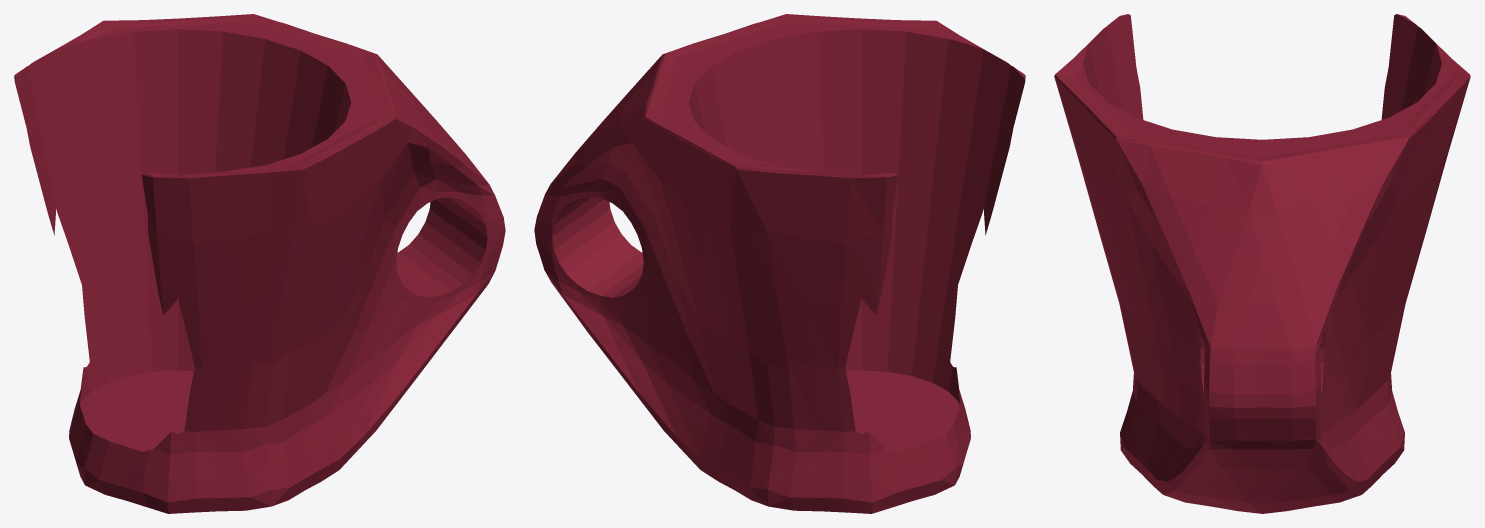
3 views of the same model, side by side, from view 1: azimuth 30°, elevation 25°; view 2: azimuth 150°, elevation 25°; view 3: azimuth 270°, elevation 25° (orthographic). The views are drawn at different scales.
Visible parts, largest first — view 1: geometry_0; view 2: geometry_0; view 3: geometry_0.
Part boxes in pixels (x1,y1,x2,y2): geometry_0: [14, 14, 505, 513]; geometry_0: [534, 14, 1025, 513]; geometry_0: [1054, 14, 1470, 513].
Bounding box in the file's own units: 0.087 × 0.0762 × 0.0747.
